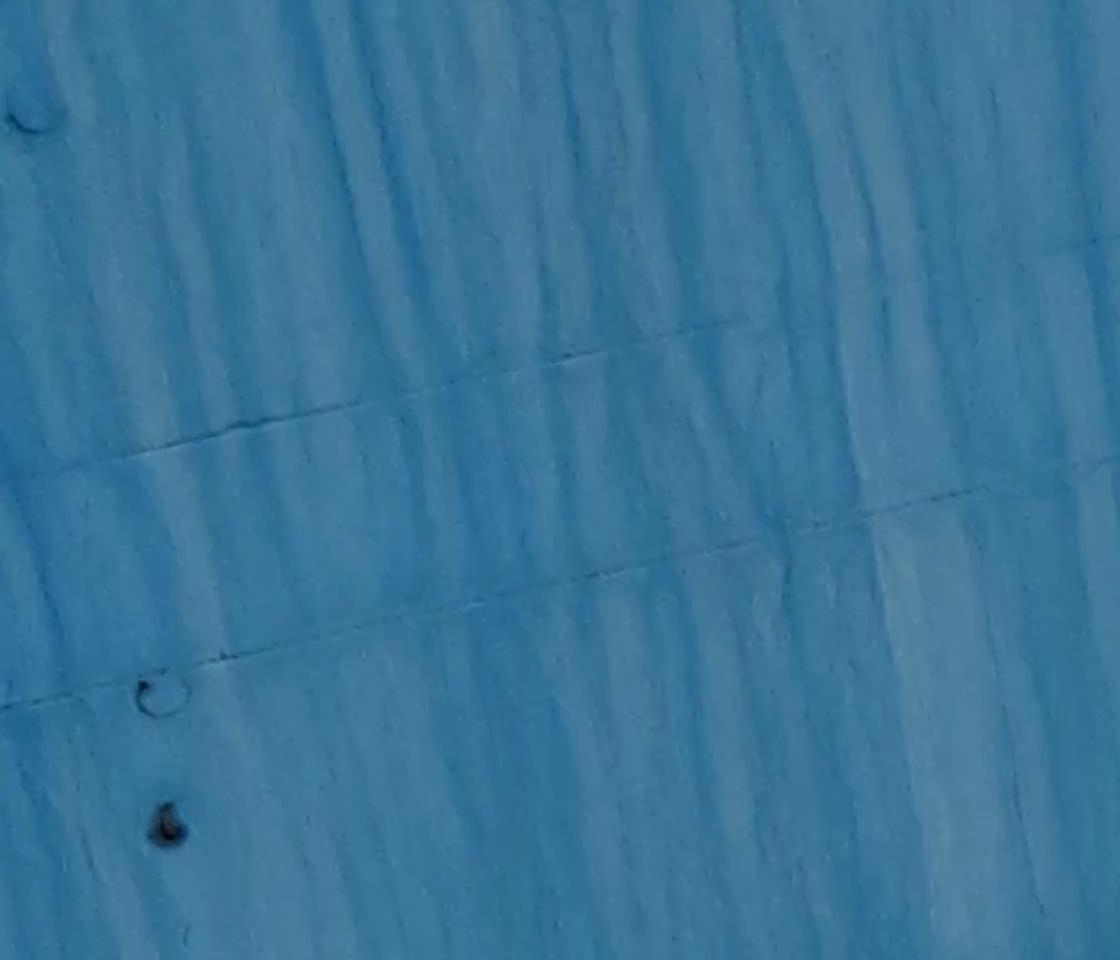rust: (147, 803, 193, 852)
